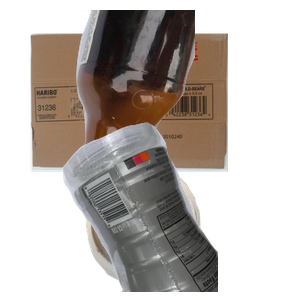cardboard: (28, 31, 249, 195)
glass: (60, 10, 300, 190)
plastic: (60, 120, 300, 300)
trash: (83, 163, 276, 300)
